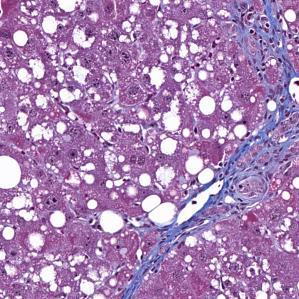fibrosis: (219, 112, 299, 208), (234, 0, 293, 103)
